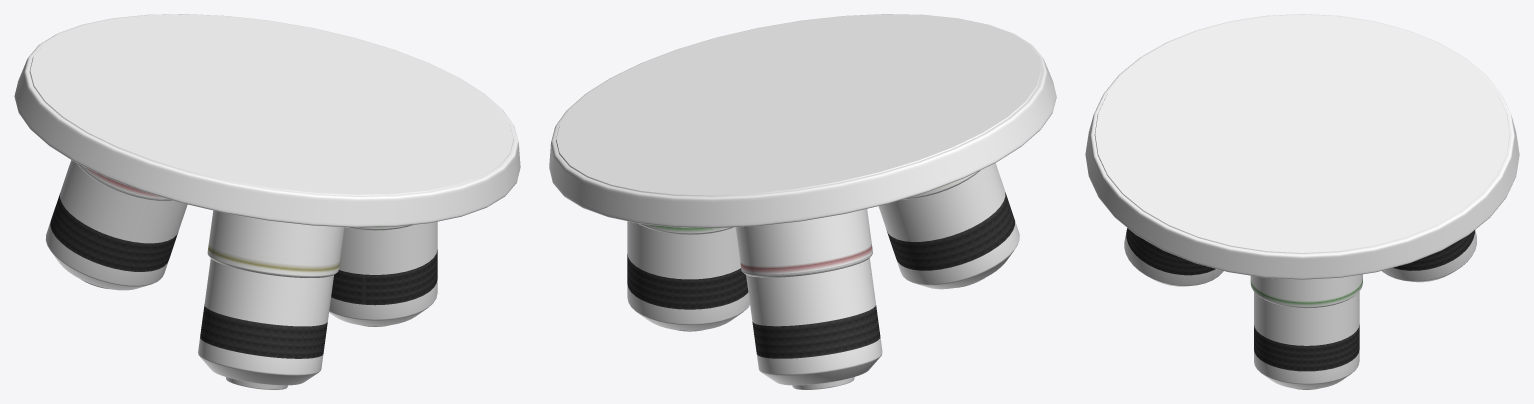
Rendered from wujing-v1.glb.
The picture shows the model from 3 angles, left to right: view 1: azimuth 30°, elevation 25°; view 2: azimuth 150°, elevation 25°; view 3: azimuth 270°, elevation 25°; orthographic projection. The views are drawn at different scales.
Parts seen in each view (by area): view 1: M_XWJ_WuJing; view 2: M_XWJ_WuJing; view 3: M_XWJ_WuJing.
Part boxes in pixels (x1=…): M_XWJ_WuJing: x1=14, y1=14, x2=520, y2=389; M_XWJ_WuJing: x1=549, y1=14, x2=1056, y2=389; M_XWJ_WuJing: x1=1085, y1=14, x2=1519, y2=389.
Size of the model in its own units: 4.21 by 2.55 by 4.27.
1 material, 1 textured.
